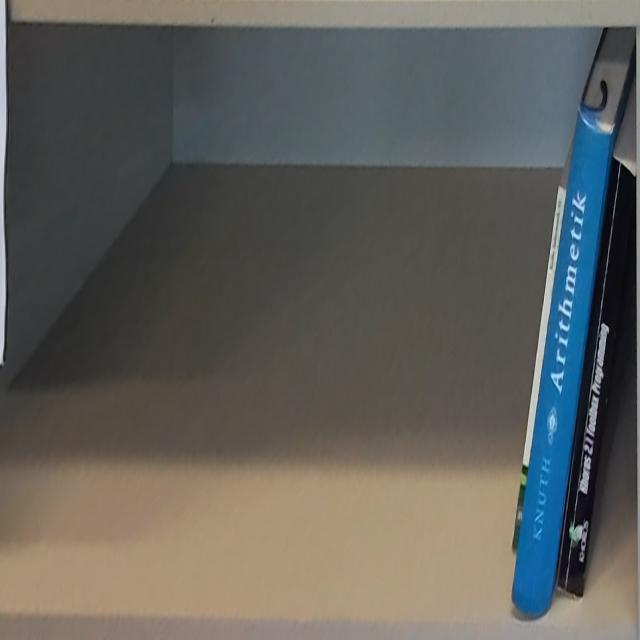Book Spine: (511, 107, 613, 617), (557, 156, 636, 597), (512, 187, 567, 551)
